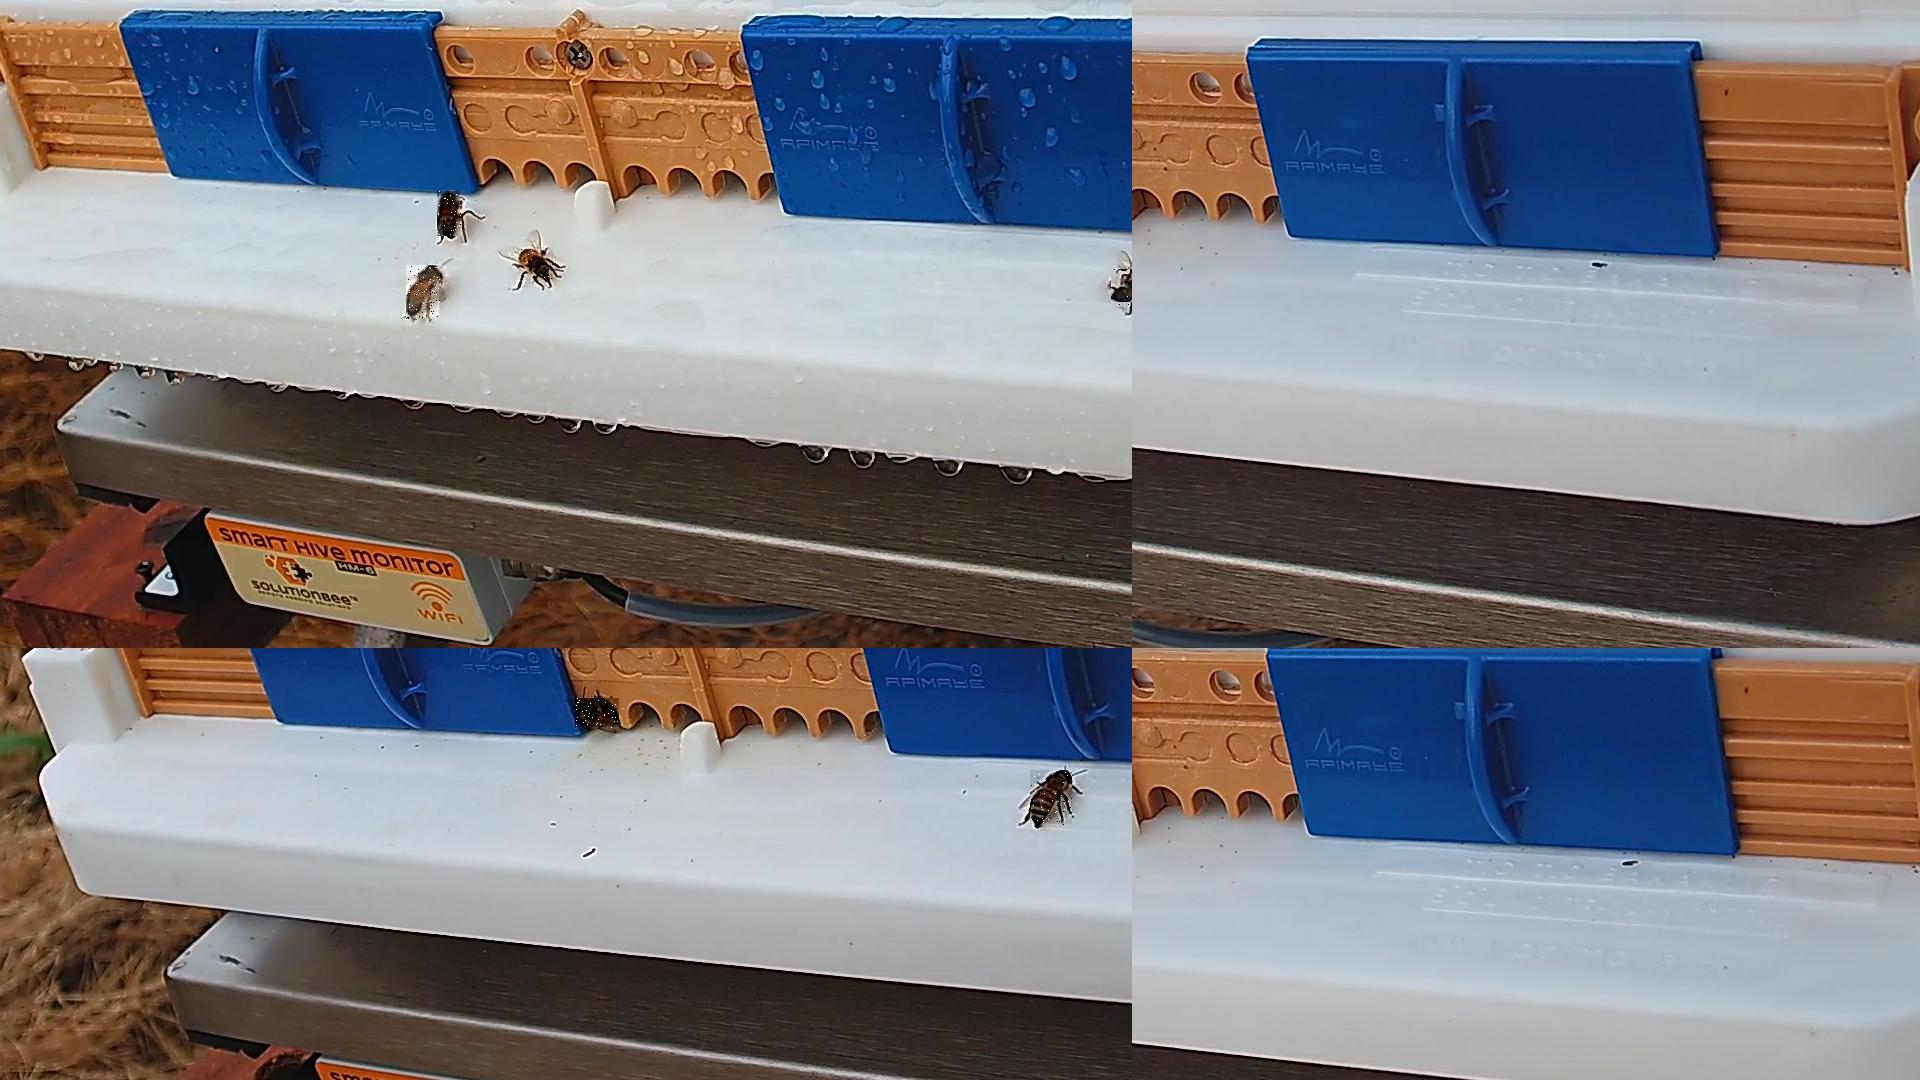bee: (1030, 770, 1073, 828), (407, 266, 443, 320), (575, 699, 620, 729), (518, 247, 554, 281), (438, 191, 463, 237), (1112, 269, 1131, 307)
